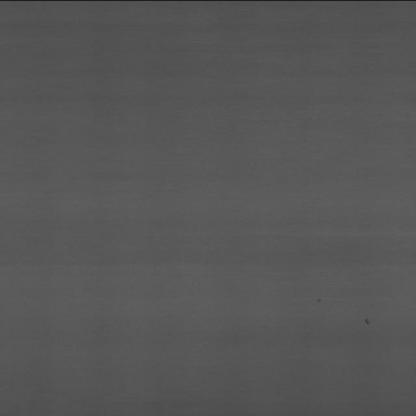inclusion: (307, 294, 340, 307), (359, 316, 390, 329)
